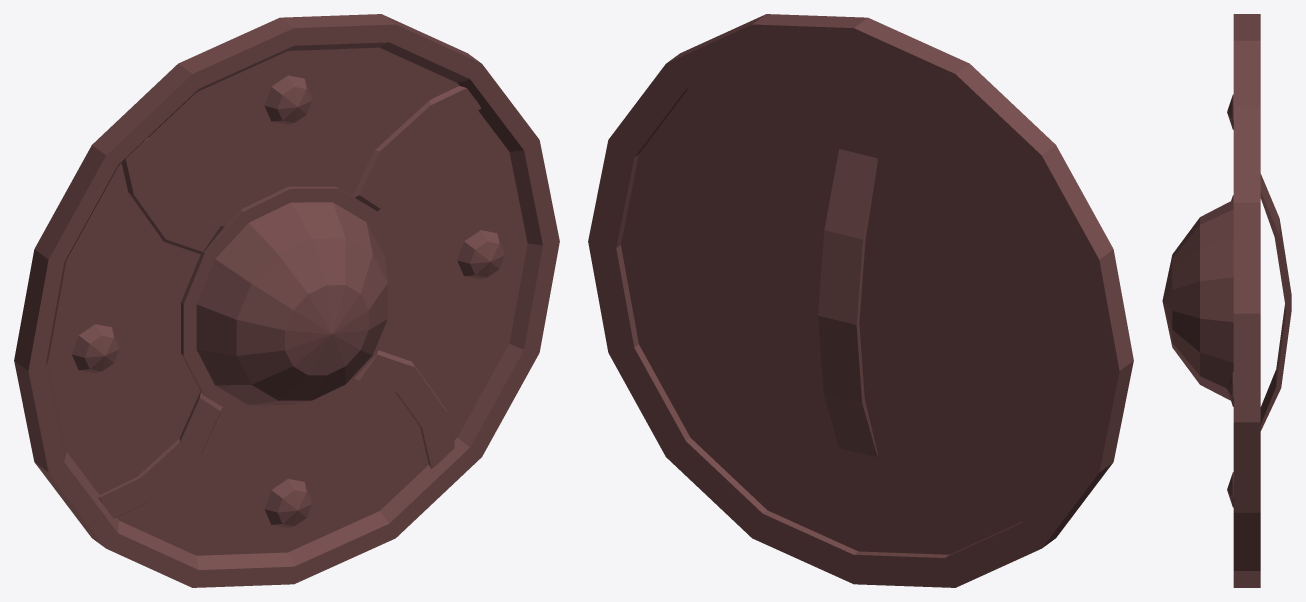
Rendered from SM_shield_elite_02.fbx.
The picture shows the model from 3 angles, left to right: view 1: azimuth 30°, elevation 25°; view 2: azimuth 150°, elevation 25°; view 3: azimuth 270°, elevation 25°; orthographic projection. The views are drawn at different scales.
Visible parts, largest first — view 1: Cylinder016; view 2: Cylinder016; view 3: Cylinder016.
Part boxes in pixels (x1=…): Cylinder016: x1=14, y1=14, x2=559, y2=587; Cylinder016: x1=588, y1=14, x2=1133, y2=587; Cylinder016: x1=1162, y1=14, x2=1291, y2=587.
Bounding box in the file's own units: 23.29 × 23.29 × 5.23.
